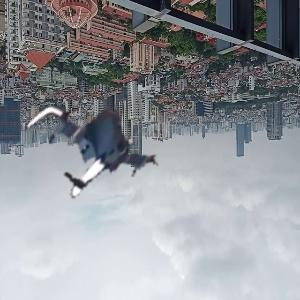drone: (23, 80, 161, 218)
